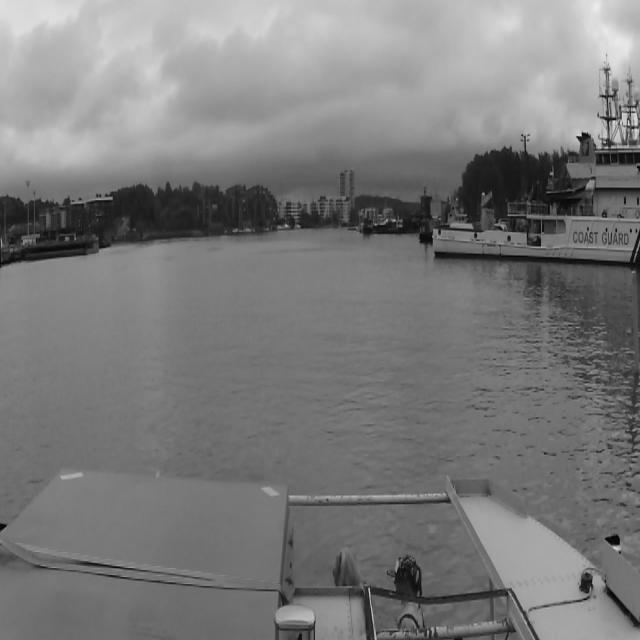buoy: (632, 269, 638, 372)
ship: (429, 49, 638, 269)
